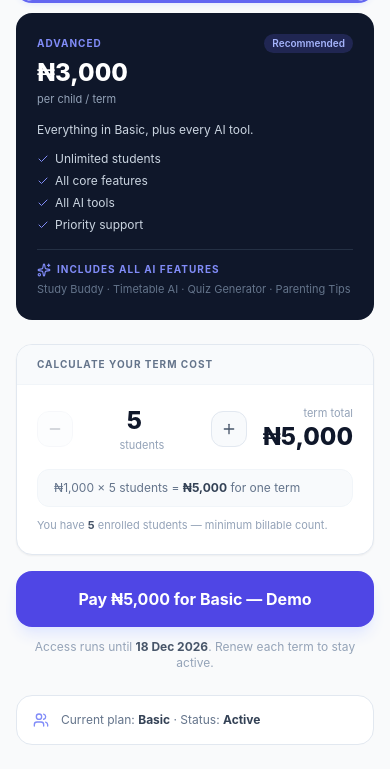
Test: SubscriptionPage — demo mode › lets a demo visitor bill any number of students
The width and height of the screenshot is (390, 769).
(page scrolled)
Replace the text in the number field with "5000" at (142,421), box left=102, top=405, right=182, bottom=437
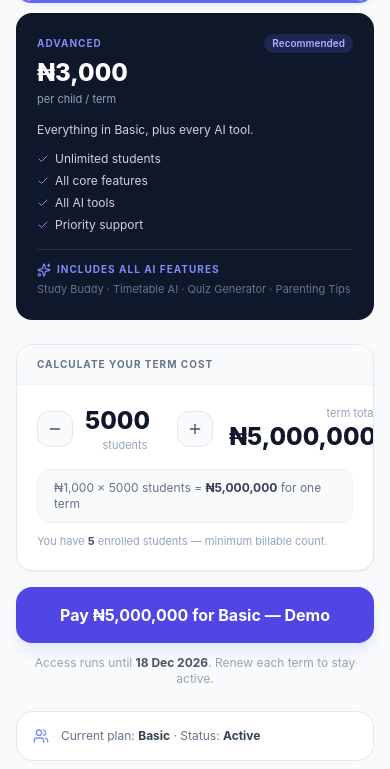
Expected: the text "₦5,000,000" below "term total" is shown, left=229, top=422, right=374, bottom=451
